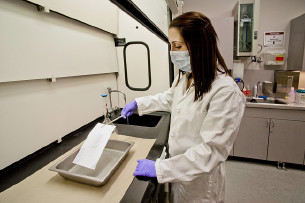face_mask: (167, 28, 191, 73)
